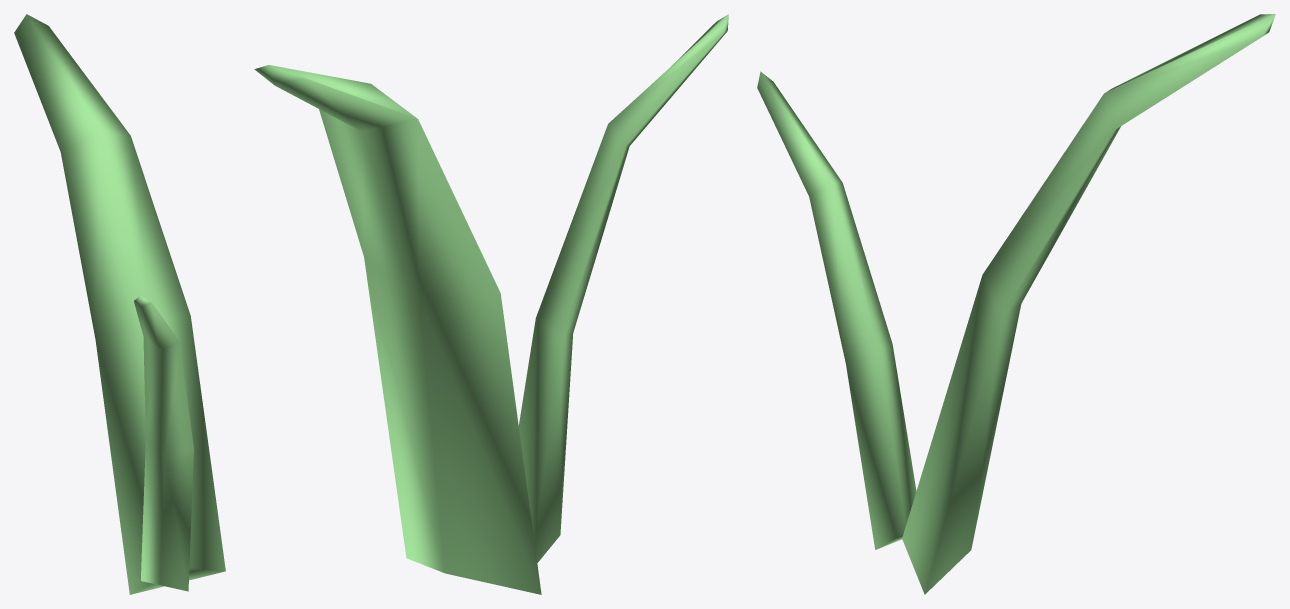
File: GrassSmall.fbx
3 views of the same model, side by side, from view 1: azimuth 30°, elevation 25°; view 2: azimuth 150°, elevation 25°; view 3: azimuth 270°, elevation 25° (orthographic). The views are drawn at different scales.
Visible parts, largest first — view 1: Cube; view 2: Cube; view 3: Cube.
Part boxes in pixels (x1,y1,x2,y2): Cube: (14,14,225,594); Cube: (254,14,728,594); Cube: (757,14,1275,594).
Bounding box in the file's own units: 56.62 × 161 × 137.
